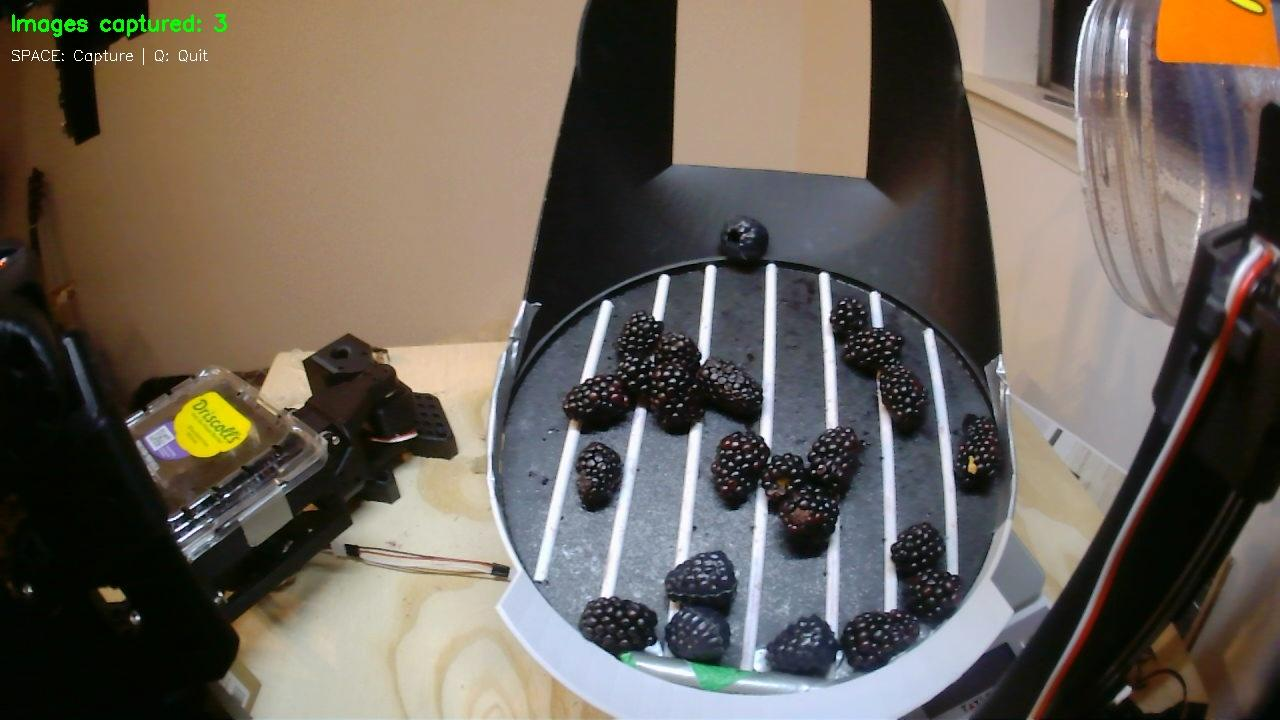berry: (840, 610, 918, 670), (578, 596, 655, 654), (665, 551, 737, 613), (711, 431, 769, 507), (766, 614, 838, 675), (779, 483, 839, 553), (698, 356, 762, 420), (648, 361, 703, 431), (808, 426, 861, 498), (562, 374, 631, 426), (666, 607, 729, 663), (877, 363, 927, 433), (956, 415, 1001, 491), (575, 442, 621, 510), (891, 522, 944, 578), (842, 327, 903, 375), (906, 570, 962, 620), (761, 453, 803, 509), (616, 310, 663, 356), (720, 216, 768, 261), (613, 354, 654, 400), (829, 298, 865, 343), (656, 333, 700, 367)
